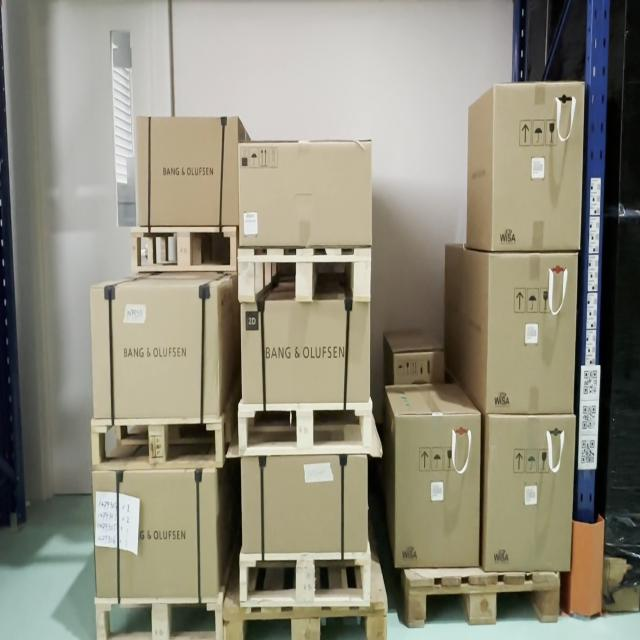box: (94, 290, 216, 416), (96, 471, 214, 599), (492, 84, 581, 252), (241, 142, 370, 246), (485, 417, 571, 570), (489, 255, 572, 412), (243, 302, 371, 403), (398, 417, 478, 565), (241, 460, 366, 551), (137, 117, 239, 225)
